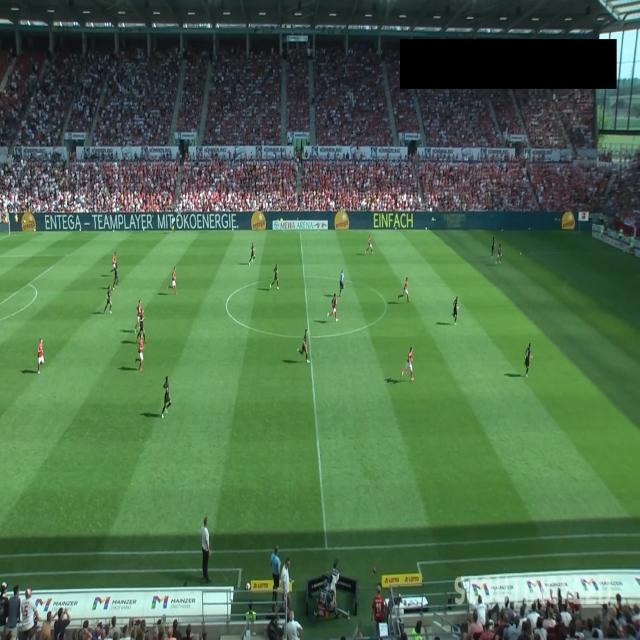ball: (519, 252, 522, 256)
